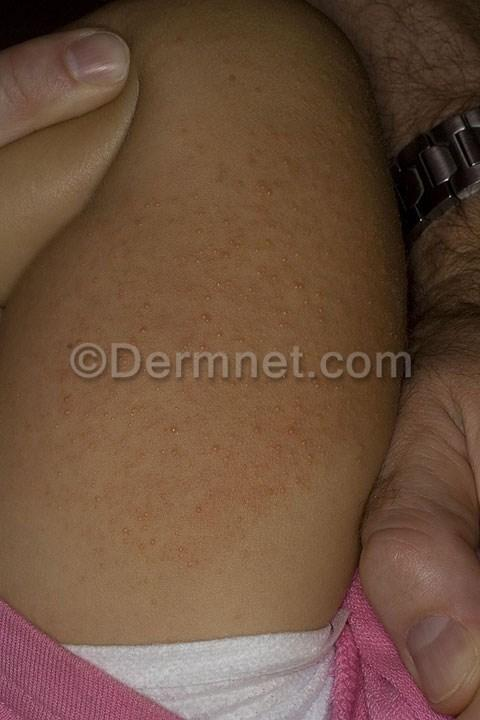edema 1: (30, 154, 389, 568)
